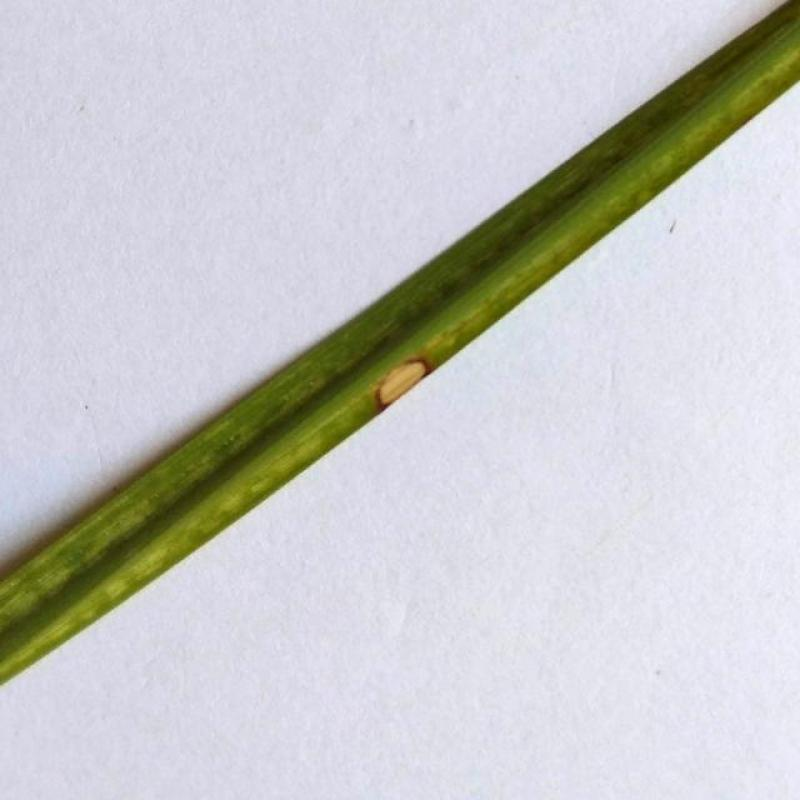Leaf_Blast: (338, 344, 473, 422)
